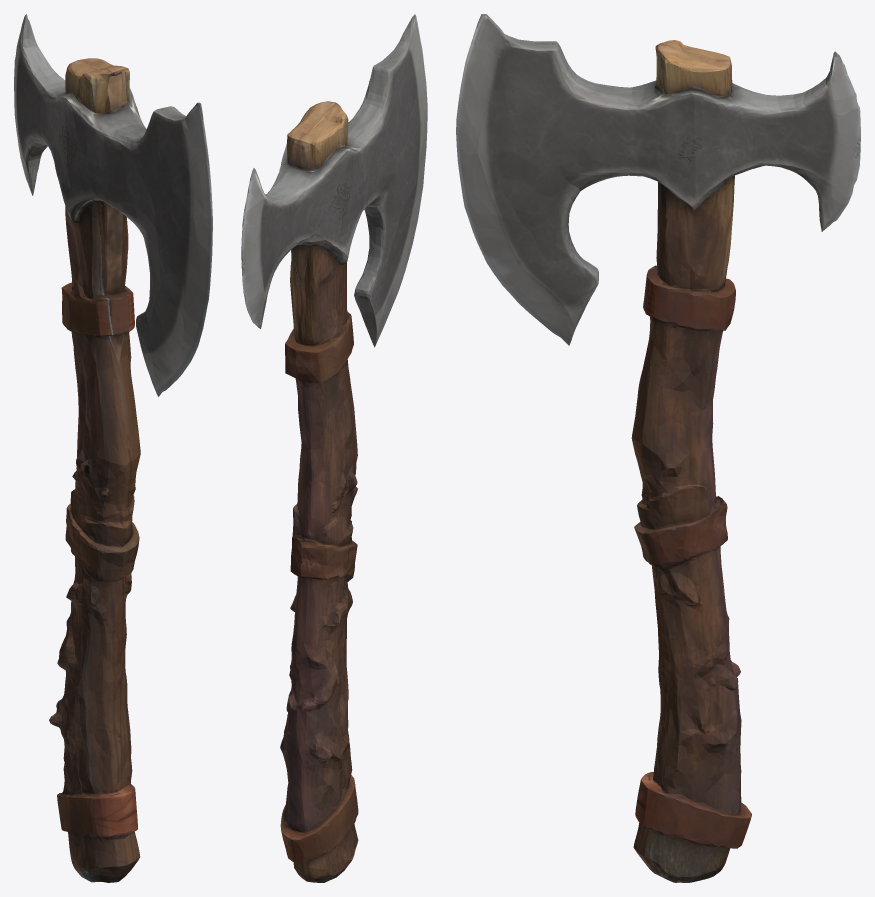
Rendered from axe.fbx.
The picture shows the model from 3 angles, left to right: view 1: azimuth 30°, elevation 25°; view 2: azimuth 150°, elevation 25°; view 3: azimuth 270°, elevation 25°; orthographic projection. The views are drawn at different scales.
Parts seen in each view (by area): view 1: temp; view 2: temp; view 3: temp.
Boxes of the visible parts, box(x1,y1,x2,y2) form: temp: box(14, 14, 212, 882); temp: box(241, 14, 427, 882); temp: box(456, 14, 860, 882).
Size of the model in its own units: 15.15 by 200 by 84.77.
1 material, 1 textured.
